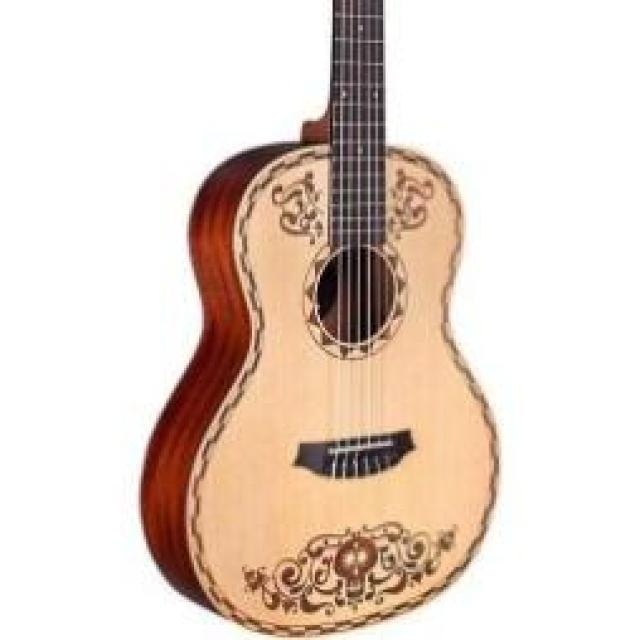acousticguitar: (141, 0, 496, 635)
